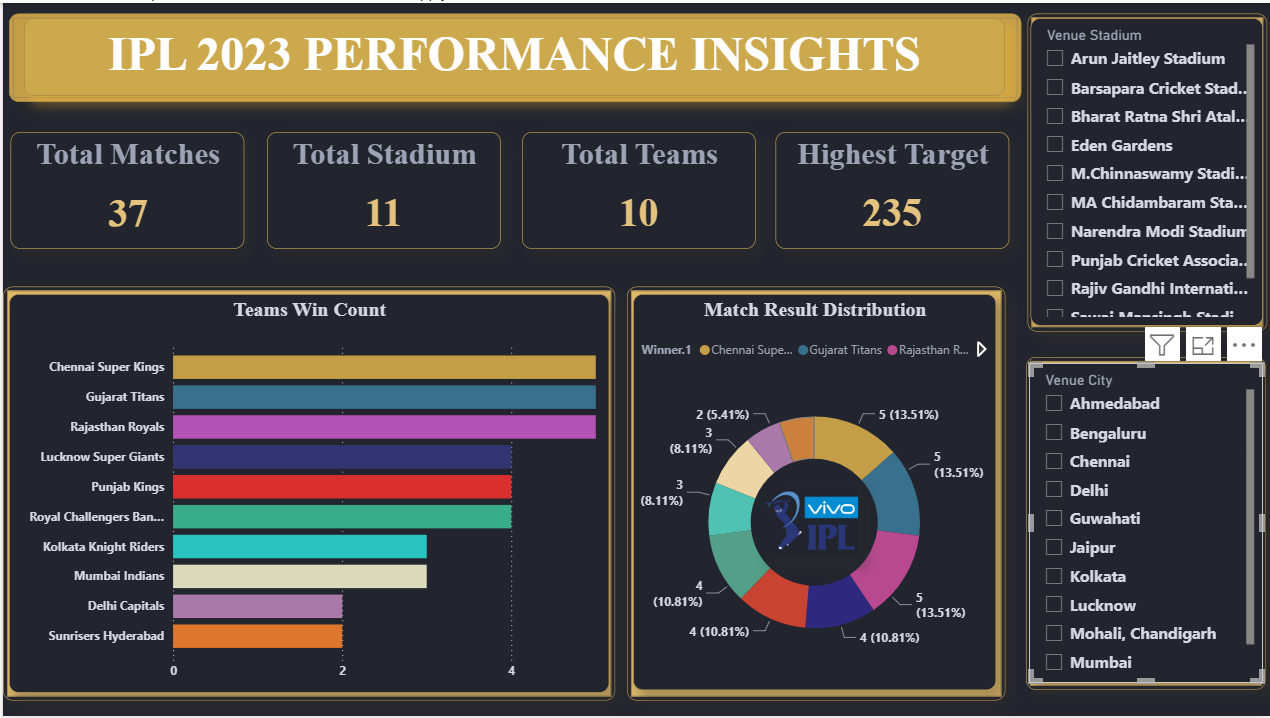

The page's visual inventory and layout, read from the dashboard file:
{"tool":"powerbi","page":{"name":"Page 2","canvas":[1280,720],"ordinal":1},"visuals":[{"type":"shape","box":[1032.7,357.4,242.3,336.2],"z":0},{"type":"shape","box":[1034.2,10.6,242,321],"z":1000},{"type":"shape","box":[629.9,286.2,382,418],"z":2000},{"type":"shape","box":[0,286.2,618,418],"z":3000},{"type":"shape","box":[6.1,10.6,1022.1,89.3],"z":4000},{"type":"textbox","box":[21.2,15.1,990.3,78.7],"z":5000},{"type":"cardVisual","title":"Total Matches","fields":{"Data":["ipl23data.total matches"]},"box":[7.6,130.2,236.2,118.1],"z":6000},{"type":"cardVisual","title":"Total Stadium","fields":{"Data":["ipl23data.Total Stadium"]},"box":[266.5,130.2,236.2,118.1],"z":7000},{"type":"cardVisual","title":"Total Teams","fields":{"Data":["ipl23data.Total Teams"]},"box":[523.9,130.2,236.2,118.1],"z":8000},{"type":"cardVisual","title":"Highest Target","fields":{"Data":["ipl23data.Highest Target"]},"box":[779.8,130.2,236.2,118.1],"z":9000},{"type":"clusteredBarChart","title":"Teams Win Count","fields":{"Category":["ipl23data.Winner.1"],"Y":["CountNonNull(ipl23data.Winner.1)"]},"box":[6.1,293.8,605.7,402.8],"z":10000},{"type":"donutChart","title":"Match Result Distribution","fields":{"Category":["ipl23data.Winner.1"],"Y":["CountNonNull(ipl23data.Winner.1)"]},"box":[636,293.8,366.4,399.8],"z":11000},{"type":"slicer","fields":{"Values":["ipl23data.Venue Stadium"]},"box":[1037.2,15.1,234.7,310.4],"z":12000},{"type":"slicer","fields":{"Values":["ipl23data.Venue City"]},"box":[1035.7,363.4,236.2,322.5],"z":13000},{"type":"image","box":[769.2,484.5,93.9,75.7],"z":13001}]}

Visuals, with their boxes in screenshot pixels (x1, y1, x2, y2), scaled from the page's 1280x720 canvas onto the 1270x718 screenshot:
shape: (x1=1025, y1=356, x2=1265, y2=692)
shape: (x1=1026, y1=11, x2=1266, y2=331)
shape: (x1=625, y1=285, x2=1004, y2=702)
shape: (x1=0, y1=285, x2=613, y2=702)
shape: (x1=6, y1=11, x2=1020, y2=100)
textbox: (x1=21, y1=15, x2=1004, y2=94)
"Total Matches" cardVisual: (x1=8, y1=130, x2=242, y2=248)
"Total Stadium" cardVisual: (x1=264, y1=130, x2=499, y2=248)
"Total Teams" cardVisual: (x1=520, y1=130, x2=754, y2=248)
"Highest Target" cardVisual: (x1=774, y1=130, x2=1008, y2=248)
"Teams Win Count" clusteredBarChart: (x1=6, y1=293, x2=607, y2=695)
"Match Result Distribution" donutChart: (x1=631, y1=293, x2=995, y2=692)
slicer - ipl23data.Venue Stadium: (x1=1029, y1=15, x2=1262, y2=325)
slicer - ipl23data.Venue City: (x1=1028, y1=362, x2=1262, y2=684)
image: (x1=763, y1=483, x2=856, y2=559)
